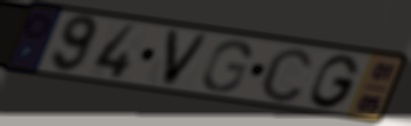4: (90, 21, 137, 81)
9: (47, 13, 99, 76)
C: (258, 45, 315, 104)
G: (308, 52, 363, 110), (200, 39, 253, 94)
V: (159, 26, 214, 89)
